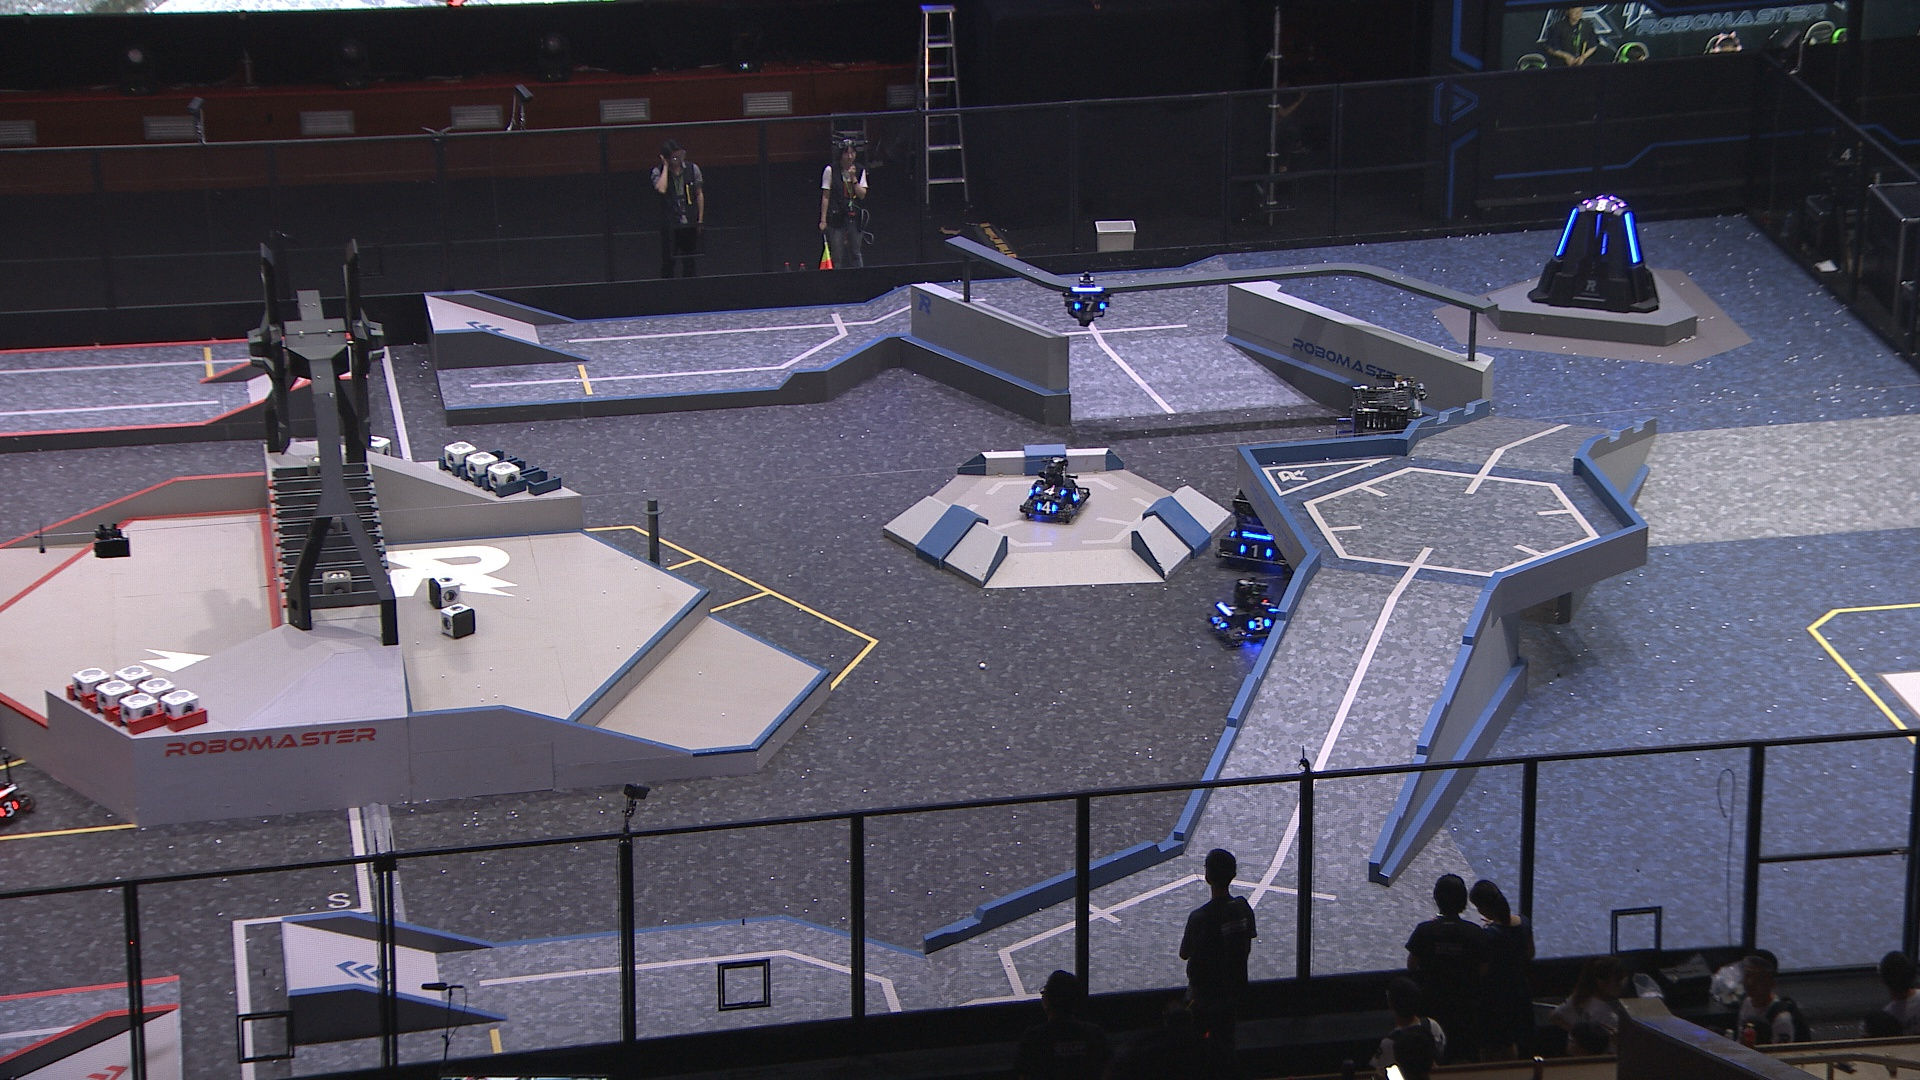armor: (1553, 206, 1580, 261), (1622, 208, 1643, 266), (1236, 542, 1273, 560), (1245, 615, 1273, 636), (1072, 301, 1109, 315), (1034, 484, 1069, 498), (1259, 595, 1280, 616), (1033, 498, 1060, 514), (1209, 611, 1228, 632), (1069, 484, 1084, 504), (1594, 211, 1604, 237)
base: (1524, 195, 1662, 315)
car: (1323, 371, 1432, 491), (1215, 467, 1335, 568), (1204, 576, 1286, 647), (1013, 455, 1092, 526)
ignore: (1585, 196, 1618, 214)
watcher: (1063, 270, 1114, 328)
